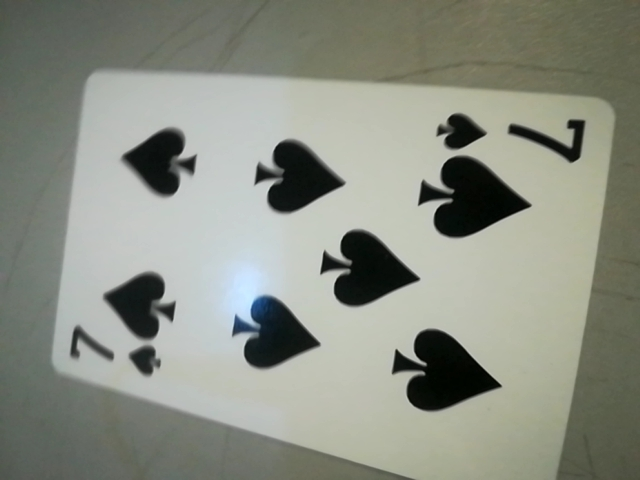ht 7: (435, 107, 593, 165)
